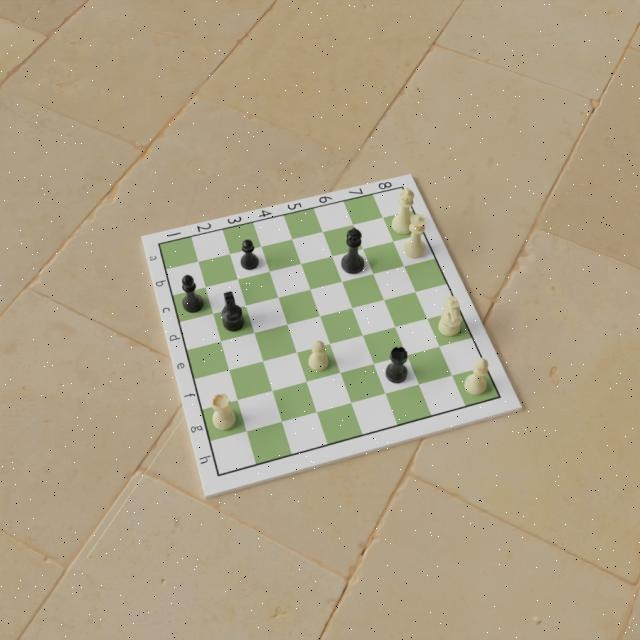black-bishop: (181, 272, 204, 314)
black-king: (340, 226, 365, 276)
black-knight: (221, 289, 246, 333)
black-pawn: (240, 238, 260, 270)
black-rook: (385, 344, 409, 386)
white-king: (390, 188, 414, 238)
white-pawn: (439, 290, 462, 342), (467, 356, 489, 400), (307, 339, 330, 373)
white-queen: (402, 212, 427, 261)
white-rook: (211, 391, 236, 433)
